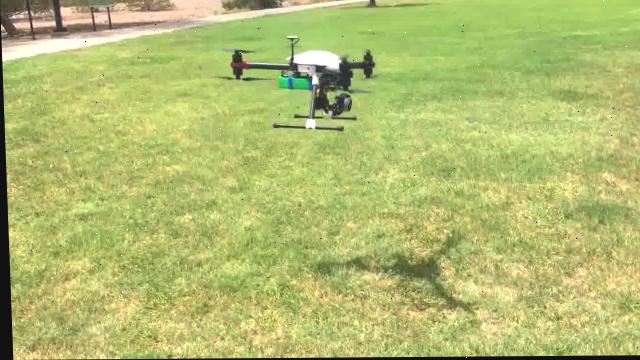drone: (8, 263, 640, 360)
